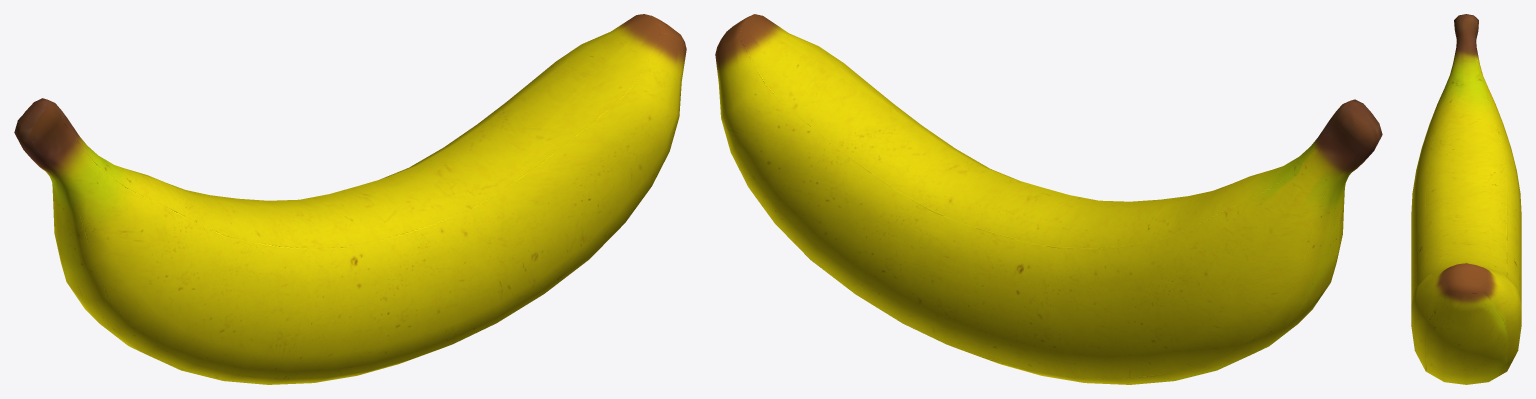
Rendered from banana_5e68fc39.glb.
3 renders of one model, left to right at view 1: azimuth 30°, elevation 25°; view 2: azimuth 150°, elevation 25°; view 3: azimuth 270°, elevation 25°, orthographic. The views are drawn at different scales.
Parts seen in each view (by area): view 1: Object_2; view 2: Object_2; view 3: Object_2.
Boxes of the visible parts, <box> form: Object_2: <box>14,14,686,384</box>; Object_2: <box>715,14,1382,384</box>; Object_2: <box>1411,14,1521,384</box>.
Bounding box in the file's own units: 8.69 × 4.27 × 1.81.
Materials: 1 (1 with a texture image).
